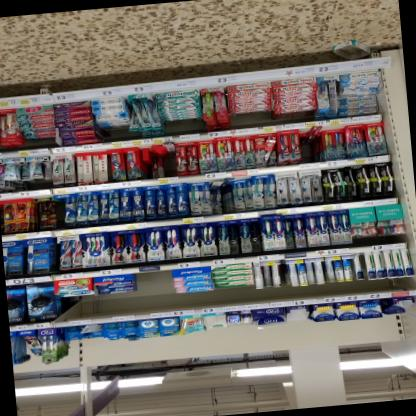empty_space: (135, 271, 176, 313), (298, 131, 314, 161)
